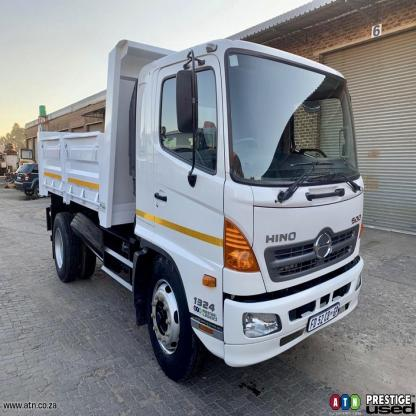dump_truck: (24, 26, 367, 382)
